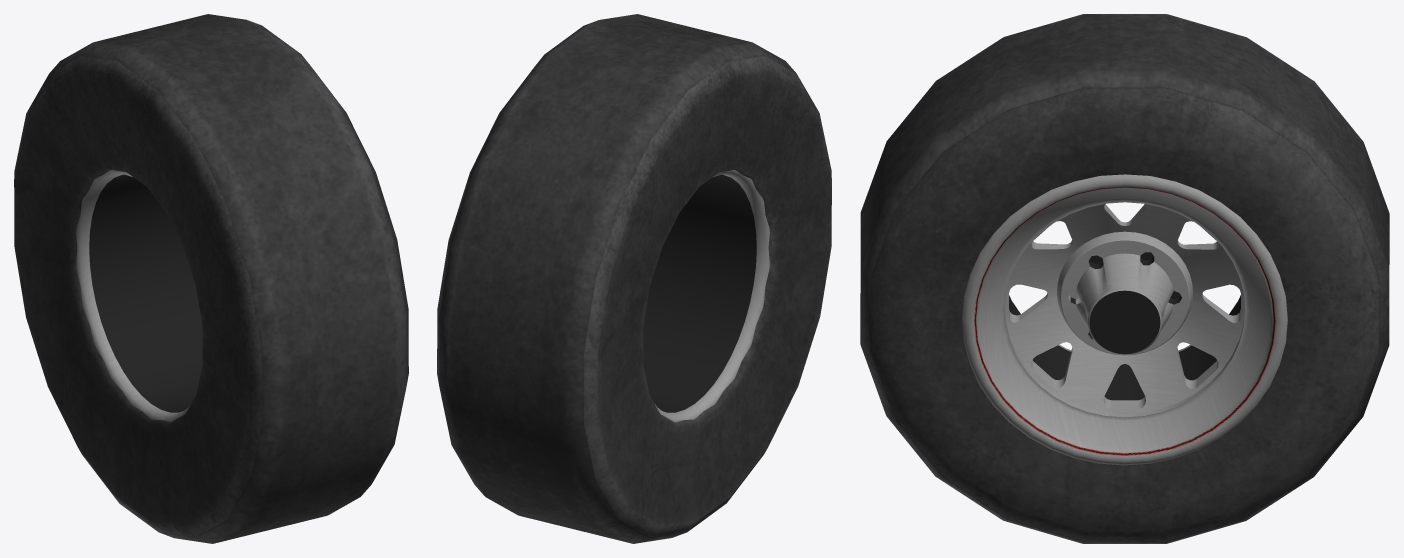
Rendered from Rear_Left_Wheel.fbx.
3 views of the same model, side by side, from view 1: azimuth 30°, elevation 25°; view 2: azimuth 150°, elevation 25°; view 3: azimuth 270°, elevation 25° (orthographic). The views are drawn at different scales.
Visible parts, largest first — view 1: defaultMaterial.118; view 2: defaultMaterial.118; view 3: defaultMaterial.118.
Part boxes in pixels (left/top/right/bottom): defaultMaterial.118: left=14, top=14, right=408, bottom=543; defaultMaterial.118: left=437, top=14, right=831, bottom=543; defaultMaterial.118: left=860, top=14, right=1389, bottom=543.
Bounding box in the file's own units: 10.86 × 28.61 × 29.04.
